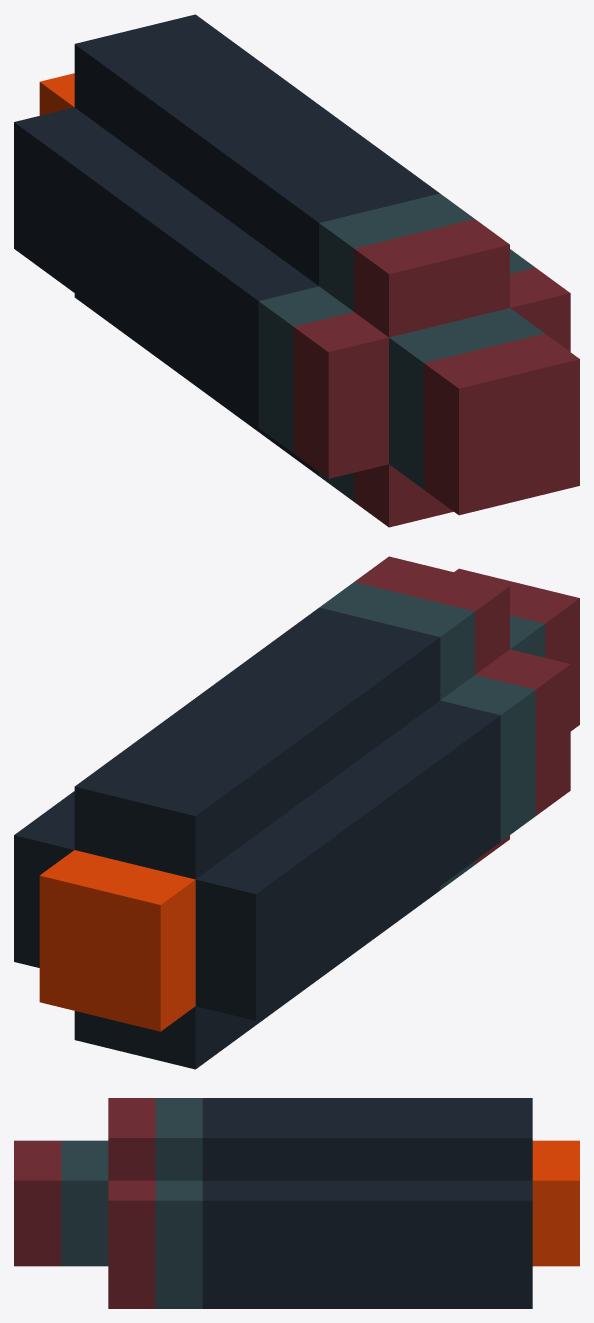
Rendered from projectile.obj.
The picture shows the model from 3 angles, top to bottom: view 1: azimuth 30°, elevation 25°; view 2: azimuth 150°, elevation 25°; view 3: azimuth 270°, elevation 25°; orthographic projection. The views are drawn at different scales.
Size of the model in its own units: 0.4 by 0.4 by 1.2.
1 material, 1 textured.
